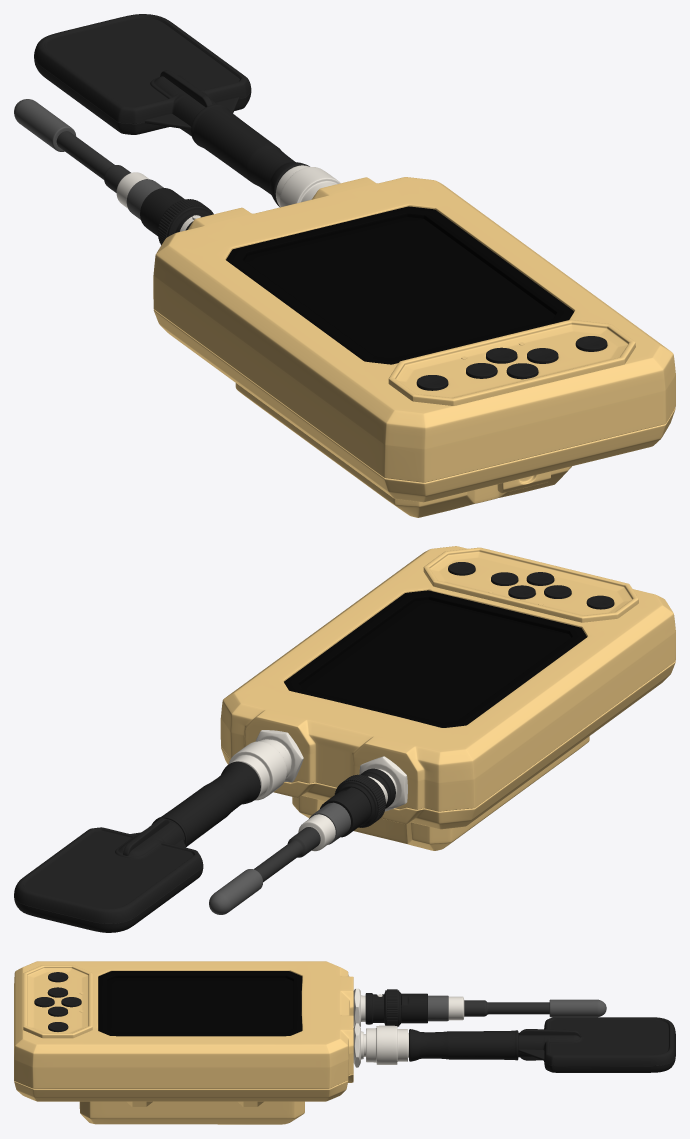
The picture shows the model from 3 angles, top to bottom: view 1: azimuth 30°, elevation 25°; view 2: azimuth 150°, elevation 25°; view 3: azimuth 270°, elevation 25°; orthographic projection. The views are drawn at different scales.
Parts seen in each view (by area): view 1: body, aantena2; view 2: body, aantena2; view 3: body, aantena2.
Boxes of the visible parts, bbox=[...] form: body: bbox=[153, 177, 675, 517]; aantena2: bbox=[14, 14, 340, 245]; body: bbox=[220, 546, 675, 850]; aantena2: bbox=[14, 730, 407, 932]; body: bbox=[14, 961, 353, 1124]; aantena2: bbox=[353, 988, 675, 1072].
Bounding box in the file's own units: 0.0848 × 0.0445 × 0.2596.
Materials: 2 (2 with a texture image).
